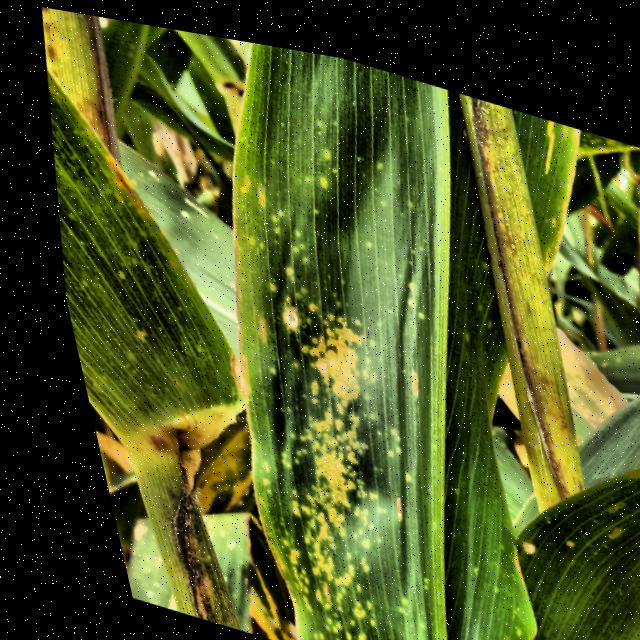common_rust: (144, 25, 570, 640)
